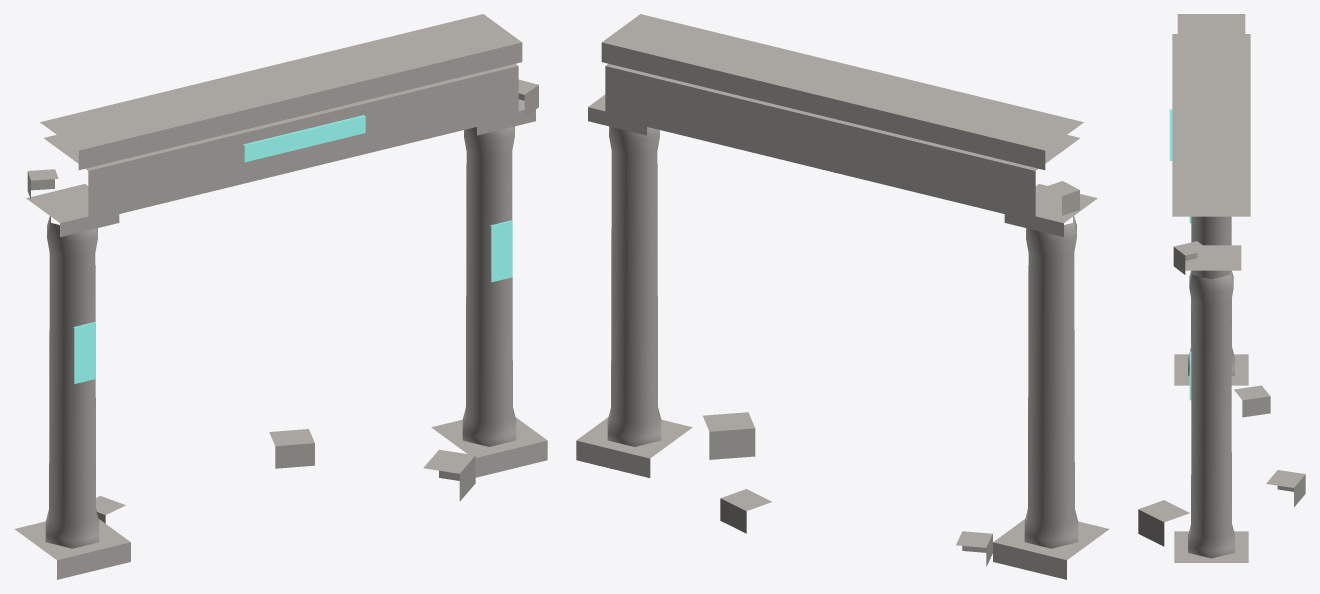
File: SM_Ruin_Arch.glb
The picture shows the model from 3 angles, left to right: view 1: azimuth 30°, elevation 25°; view 2: azimuth 150°, elevation 25°; view 3: azimuth 270°, elevation 25°; orthographic projection. The views are drawn at different scales.
Visible parts, largest first — view 1: SM_Ruin_Arch; view 2: SM_Ruin_Arch; view 3: SM_Ruin_Arch.
Part boxes in pixels (box(x1,y1,x2,y2)): SM_Ruin_Arch: box(14, 14, 547, 579); SM_Ruin_Arch: box(576, 14, 1109, 579); SM_Ruin_Arch: box(1138, 14, 1305, 562).
Size of the model in its own units: 3.65 by 3 by 1.24.
